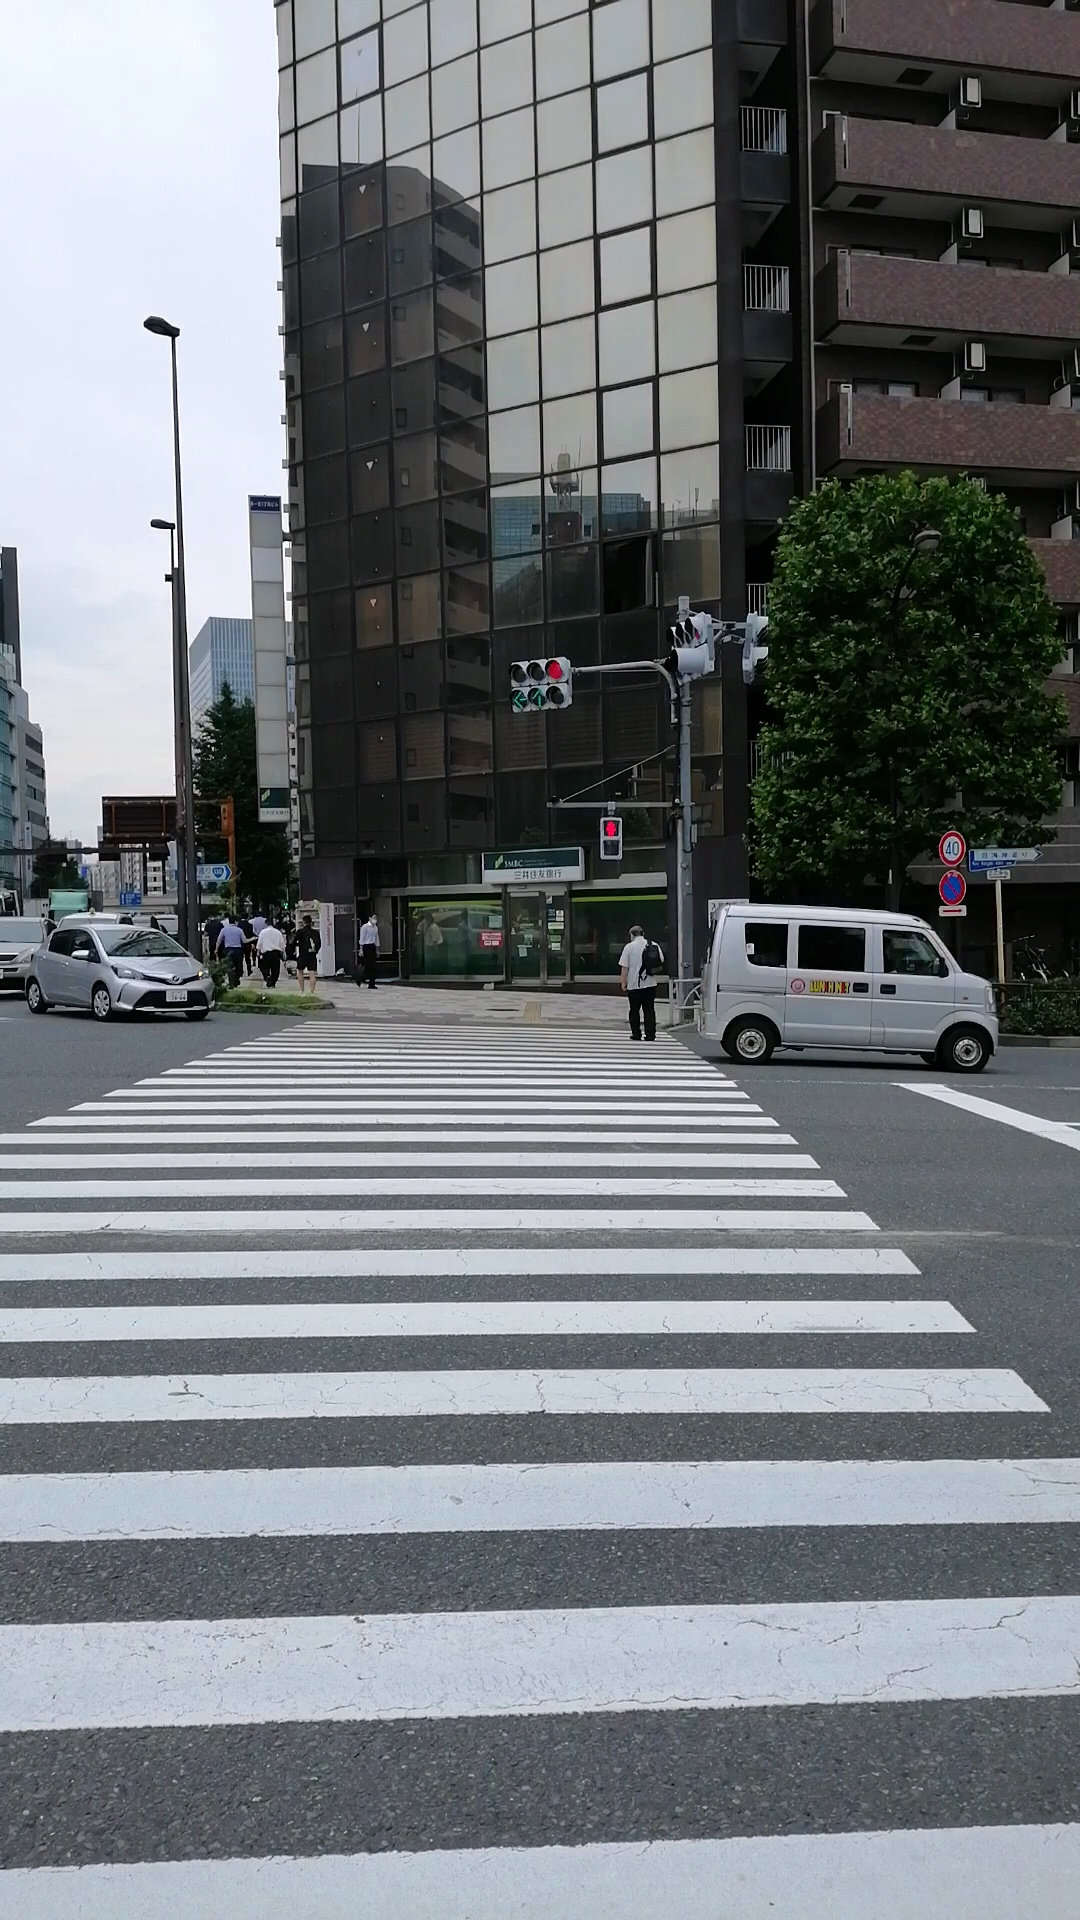red: (597, 814, 622, 860)
